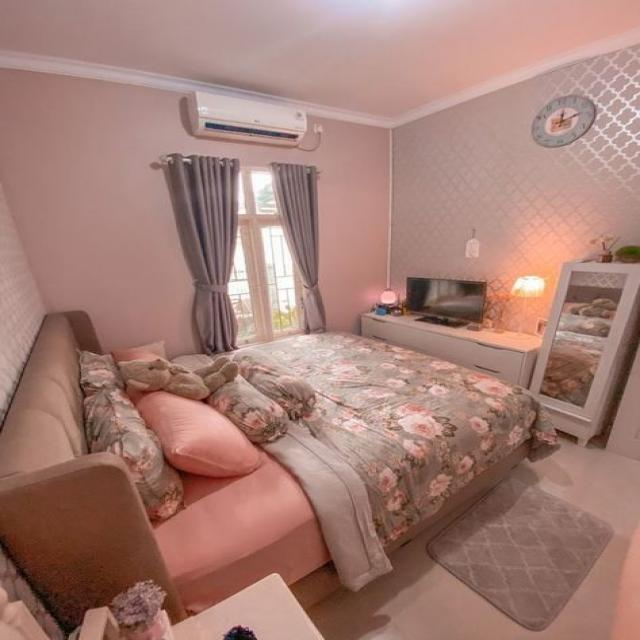AC: (185, 89, 306, 147)
AIO PC-Monitor-TV: (404, 275, 487, 327)
